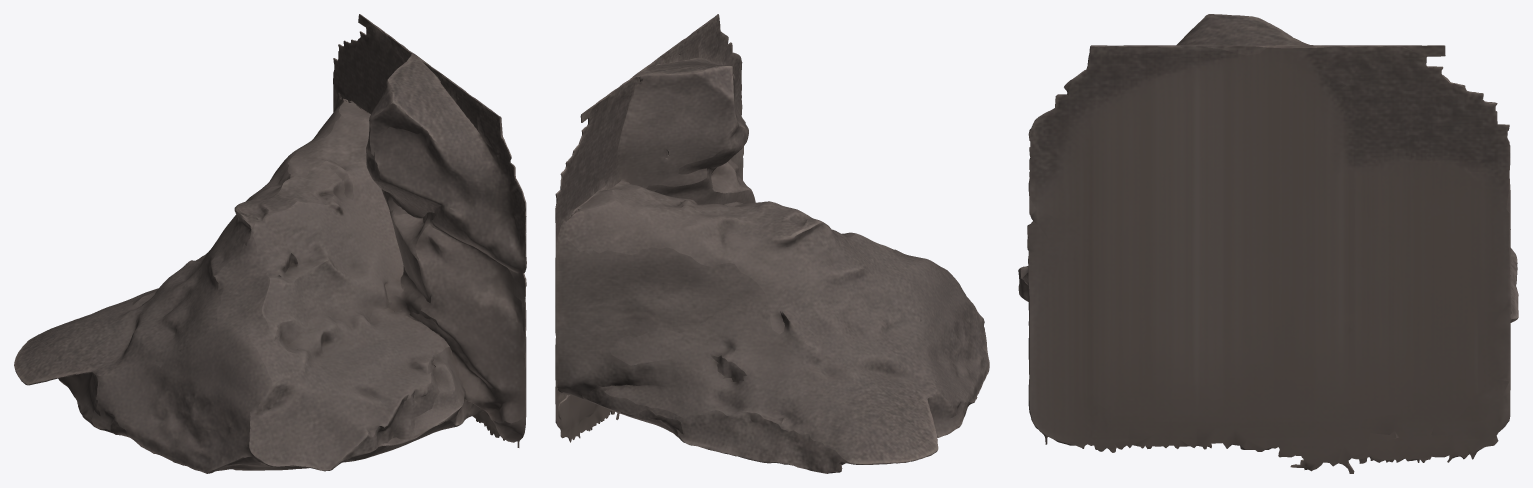
The picture shows the model from 3 angles, left to right: view 1: azimuth 30°, elevation 25°; view 2: azimuth 150°, elevation 25°; view 3: azimuth 270°, elevation 25°; orthographic projection. The views are drawn at different scales.
Visible parts, largest first — view 1: world; view 2: world; view 3: world.
Boxes of the visible parts, left/top/right/bottom form: world: left=14, top=14, right=526, bottom=473; world: left=555, top=14, right=989, bottom=473; world: left=1018, top=14, right=1518, bottom=473.
Size of the model in its own units: 0.35 by 0.3246 by 0.3439.
Materials: 1 (1 with a texture image).
